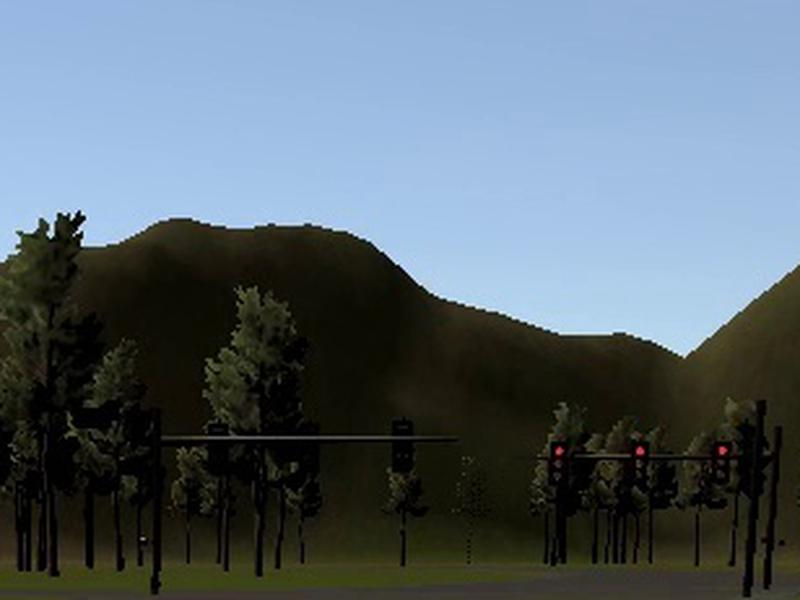Red: (550, 441, 568, 486), (629, 442, 647, 485), (714, 442, 730, 486)
